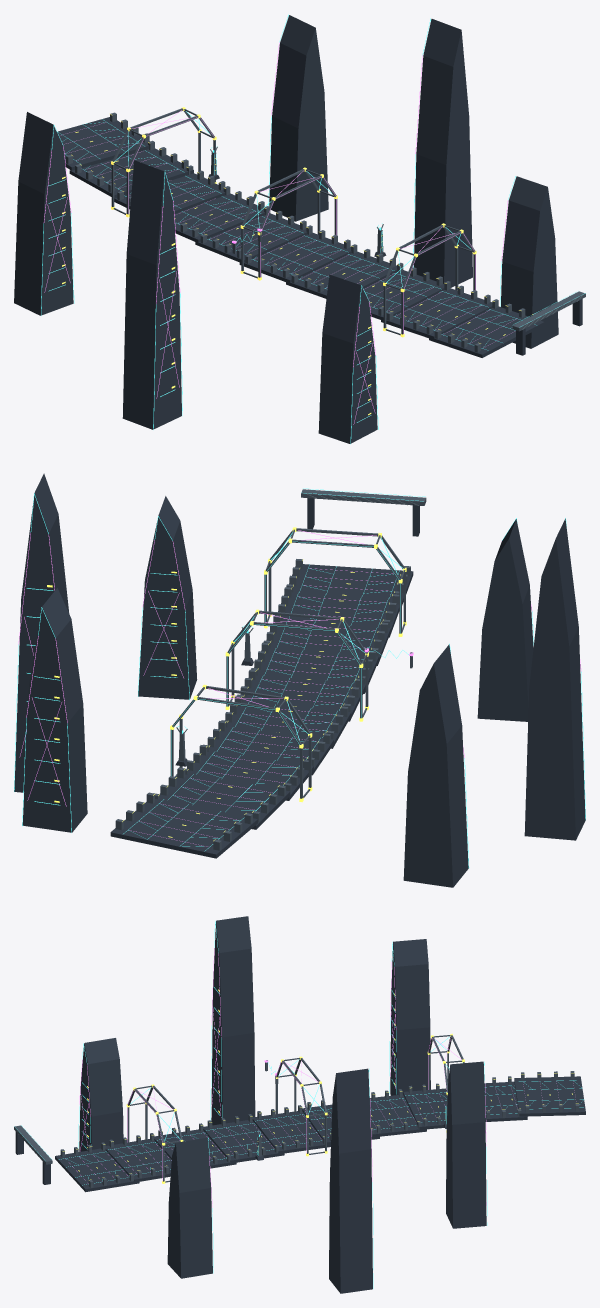
The model's file is route_batch_17.glb.
3 renders of one model, top to bottom at view 1: azimuth 30°, elevation 25°; view 2: azimuth 150°, elevation 25°; view 3: azimuth 270°, elevation 25°, orthographic. The views are drawn at different scales.
Visible parts, largest first — view 1: route_batch_17; view 2: route_batch_17; view 3: route_batch_17.
Part boxes in pixels (x1,y1,x2,y2): route_batch_17: [14, 14, 585, 444]; route_batch_17: [14, 473, 585, 887]; route_batch_17: [14, 916, 585, 1293].
Bounding box in the file's own units: 495 × 292 × 704.
